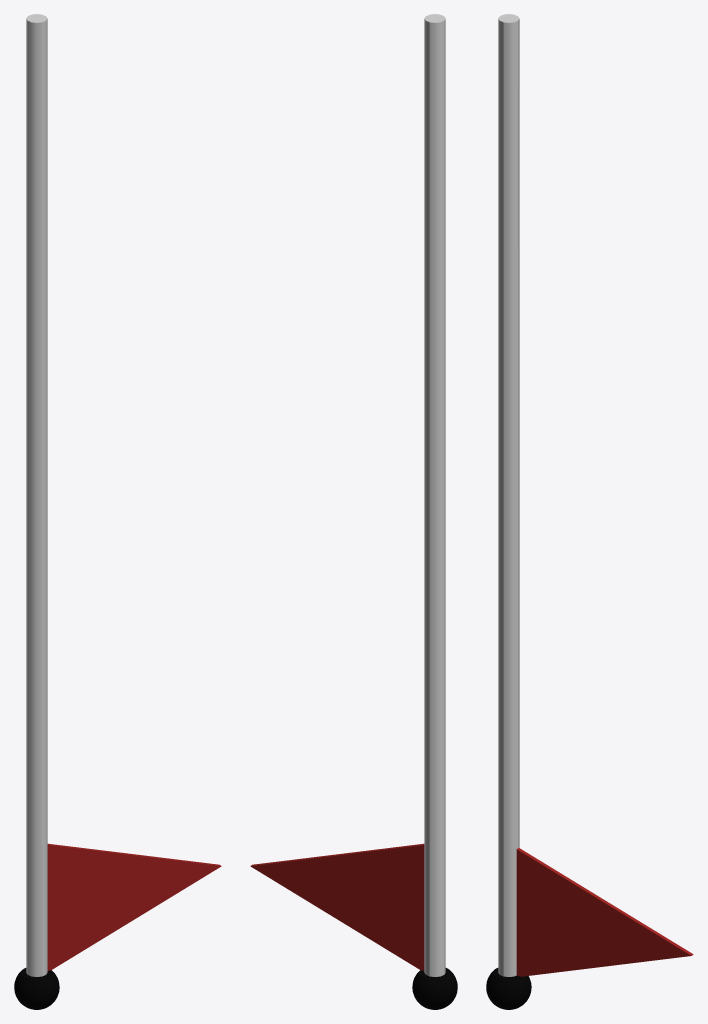
The model's file is Flag Club.glb.
The picture shows the model from 3 angles, left to right: view 1: azimuth 30°, elevation 25°; view 2: azimuth 150°, elevation 25°; view 3: azimuth 330°, elevation 25°; orthographic projection.
Visible parts, largest first — view 1: Flag Club.001; view 2: Flag Club.001; view 3: Flag Club.001.
Part boxes in pixels (box(x1,y1,x2,y2)): Flag Club.001: box(14, 14, 221, 1009); Flag Club.001: box(250, 14, 457, 1009); Flag Club.001: box(486, 14, 693, 1009).
Bounding box in the file's own units: 0.203 × 0.9427 × 0.0393.
